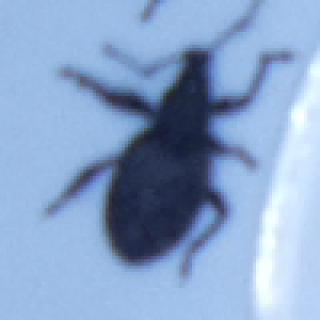bvw: (44, 3, 292, 284)
